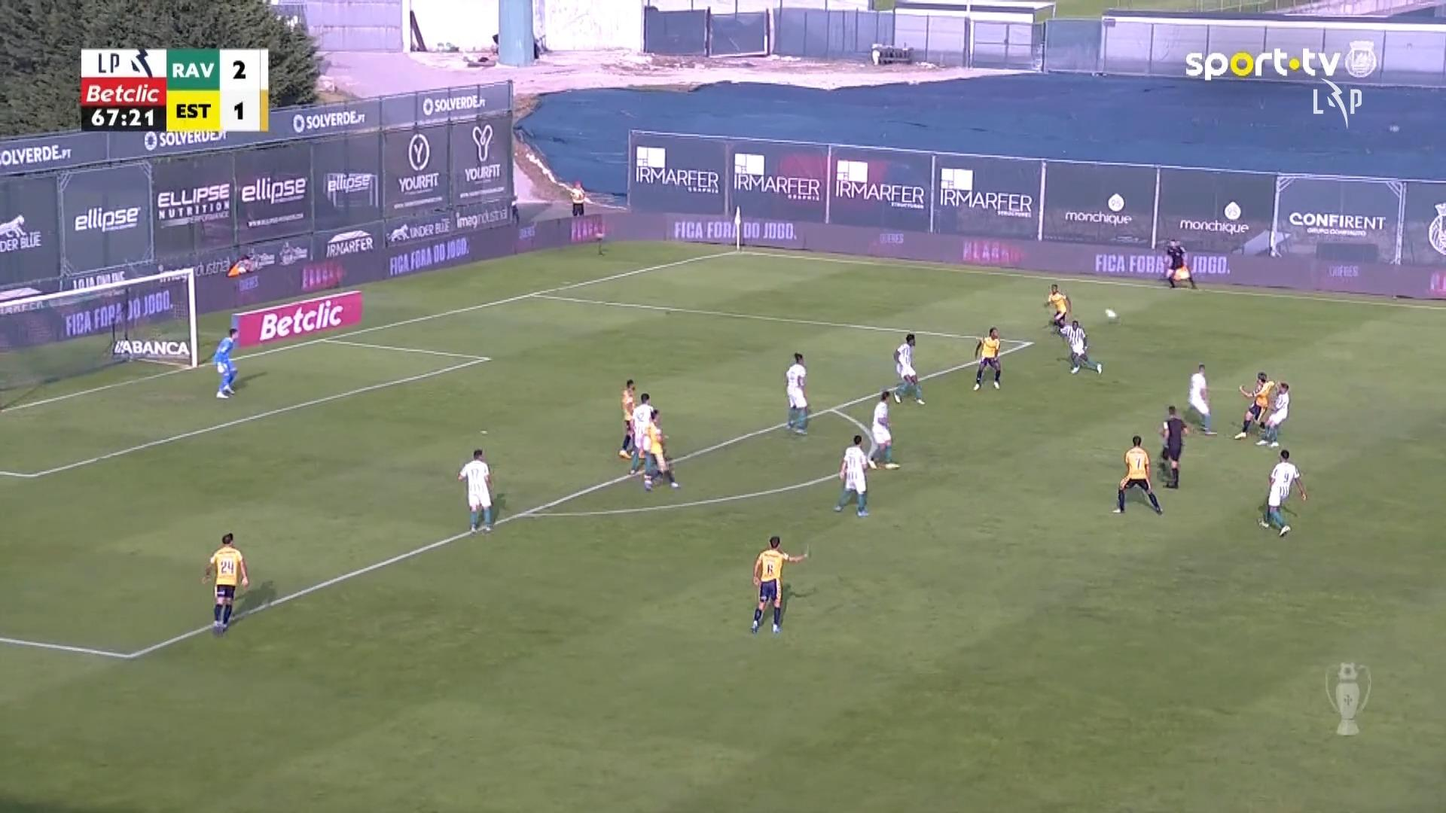ball: (1105, 308, 1116, 319)
goalkeeper: (212, 327, 239, 398)
player: (749, 534, 808, 634), (200, 531, 249, 635), (1256, 448, 1306, 537), (1112, 434, 1162, 515), (832, 434, 873, 516), (639, 408, 680, 490), (457, 448, 494, 533), (1234, 370, 1274, 440), (866, 389, 900, 470), (1057, 318, 1103, 375), (891, 333, 926, 405), (627, 391, 657, 475), (1255, 379, 1290, 447), (1187, 361, 1216, 435), (784, 352, 809, 434), (972, 326, 1002, 390), (618, 378, 637, 458), (1045, 282, 1070, 330)
referee: (1158, 403, 1189, 488), (1164, 238, 1196, 289)
